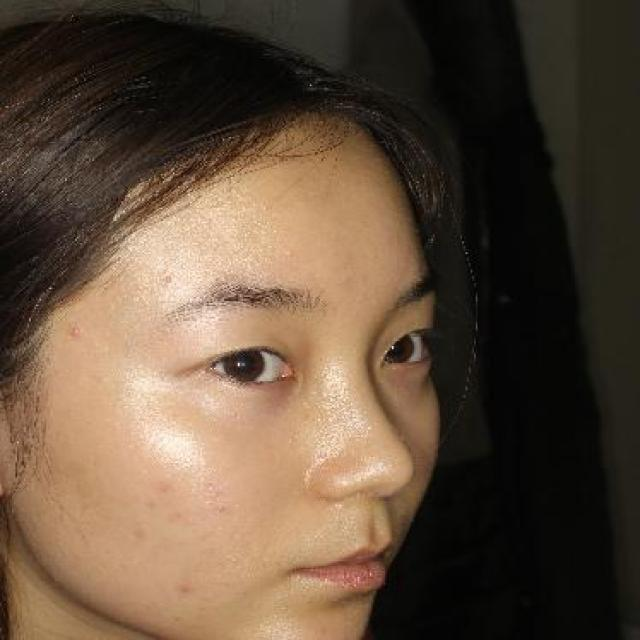blackhead: (210, 501, 231, 514)
darkspot: (154, 480, 173, 497), (173, 581, 193, 597)
nodules: (157, 272, 178, 286), (67, 321, 84, 337)
